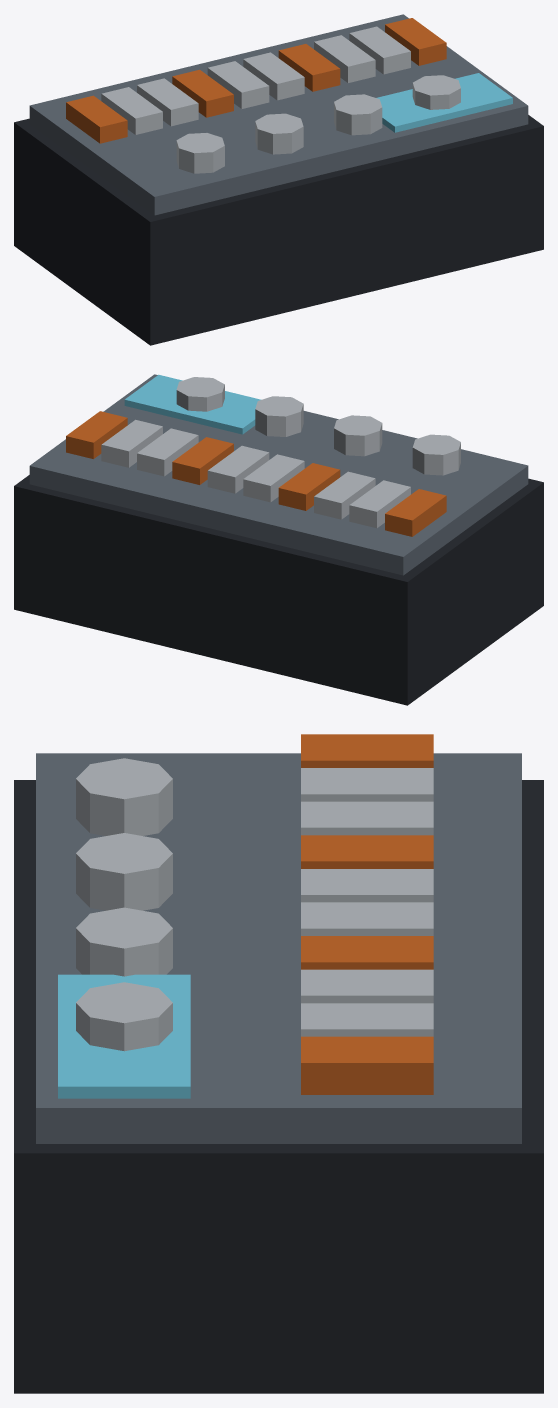
The model's file is ommni-box.glb.
The picture shows the model from 3 angles, top to bottom: view 1: azimuth 30°, elevation 25°; view 2: azimuth 150°, elevation 25°; view 3: azimuth 270°, elevation 25°; orthographic projection. The views are drawn at different scales.
Visible parts, largest first — view 1: m; view 2: m; view 3: m.
Part boxes in pixels (x1=…): m: x1=14, y1=14, x2=543, y2=345; m: x1=14, y1=374, x2=543, y2=705; m: x1=14, y1=734, x2=543, y2=1393.
Bounding box in the file's own units: 0.2 × 0.079 × 0.12.
